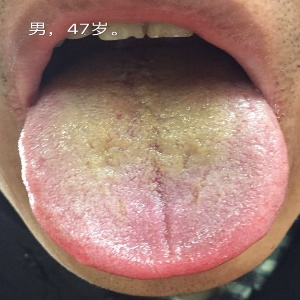st: (17, 95, 292, 279)
